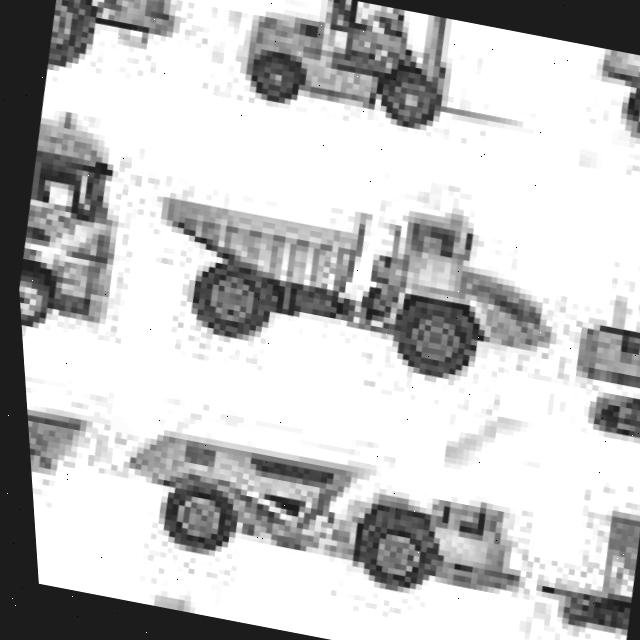dump_truck: (119, 154, 573, 413), (89, 399, 547, 635), (39, 0, 206, 111)
